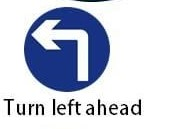Traffic signal: (15, 4, 119, 93)
